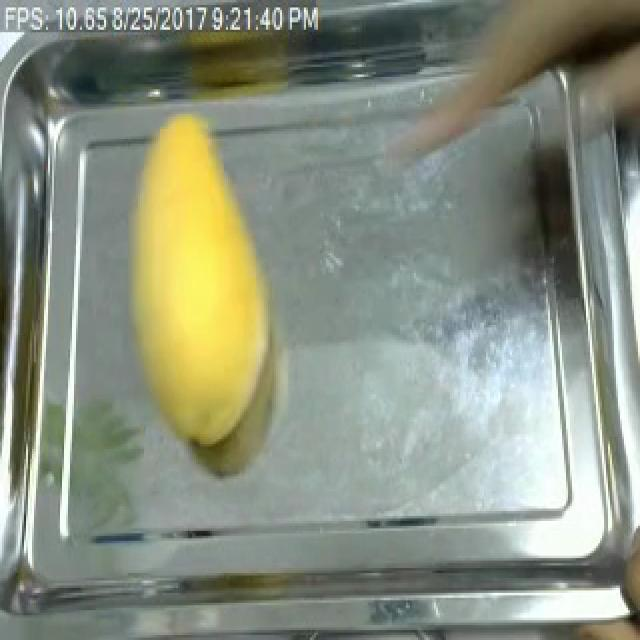fruit: (108, 109, 294, 464)
